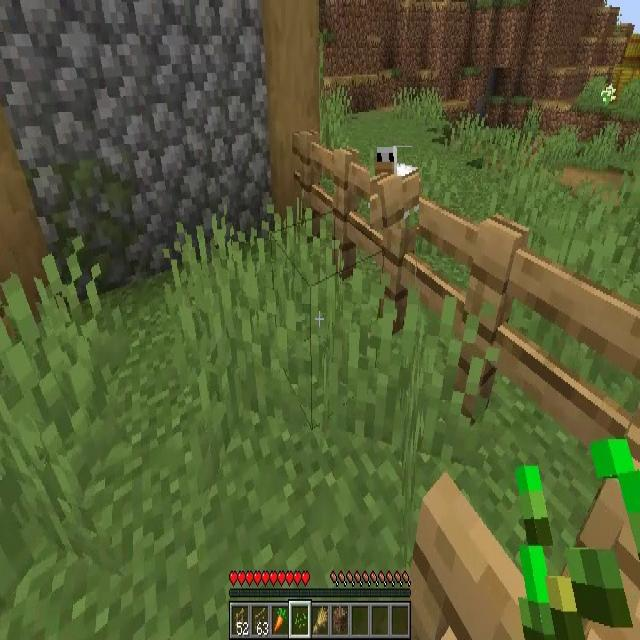duck: (370, 147, 419, 229)
flower: (601, 84, 615, 105)
